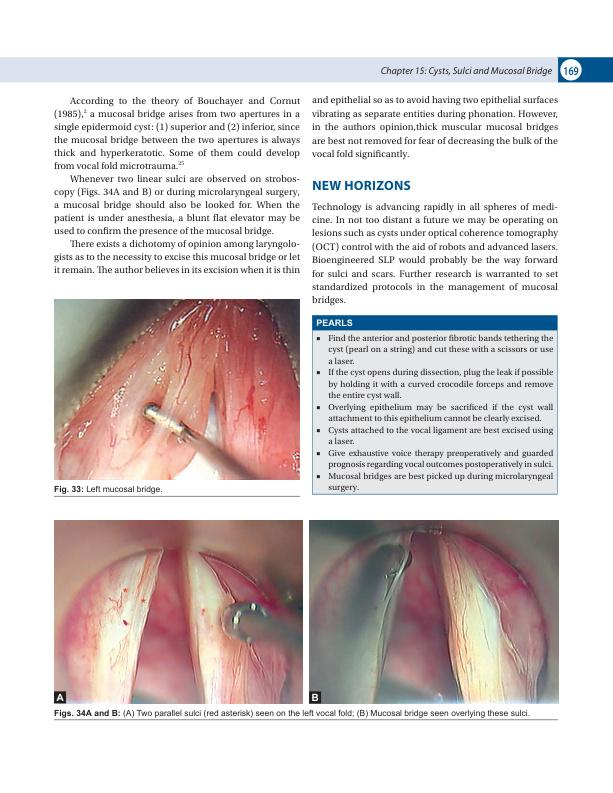caption: (53, 709, 532, 719), (53, 484, 163, 495), (316, 317, 353, 327), (55, 693, 65, 703), (310, 692, 320, 702)
header: (379, 65, 553, 77)
image: (54, 519, 303, 705), (309, 520, 559, 705), (53, 298, 301, 480)
list: (314, 333, 556, 493)
section-heading: (312, 180, 411, 192)
text: (53, 95, 301, 275), (311, 201, 558, 307), (311, 95, 560, 160)
